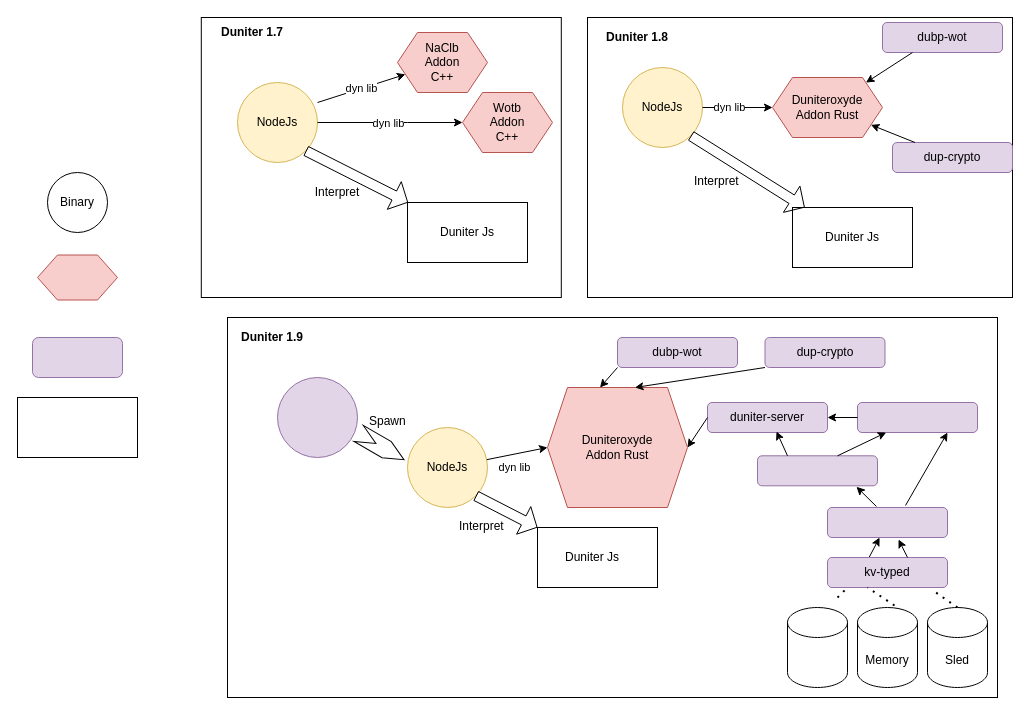
Image size: 1030x715. Some labels were removed from this diagram. The centre of each missing label's shape, as x and y in pixels:
"duniter-dbs" belongs at [887,522].
"duniter-dbs-writer" belongs at [817,470].
"duniter-gva" belongs at [917,417].
"duniter-launcher" belongs at [317,417].
"Dynamic labrary" belongs at [77,277].
"LevelDb" belongs at [817,647].
"Rust lib crate" belongs at [77,357].
"Scripts (to be interpreted)" belongs at [77,427].
